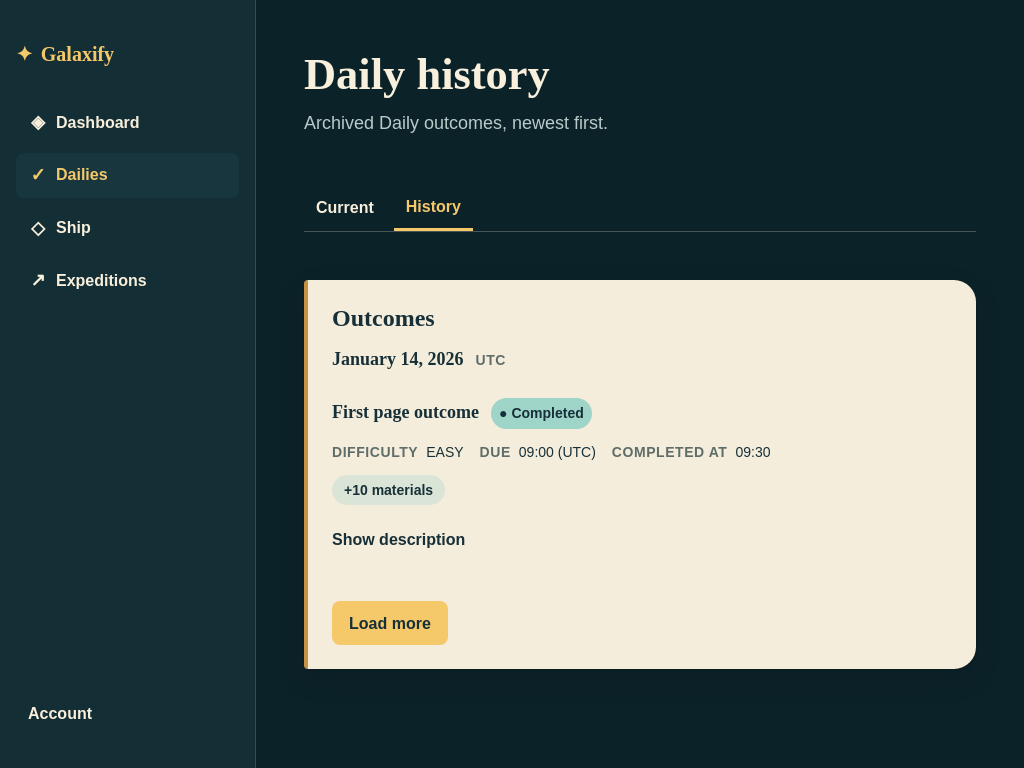
it: /dailies/history › pages with an opaque cursor and Load more
Expected: the heading "Daily history" is shown, [304,49,550,99]
Expected: the heading "First page outcome" is shown, [332,402,479,424]
Click the button "Load more".
click(390, 623)  # box [332,601,448,645]
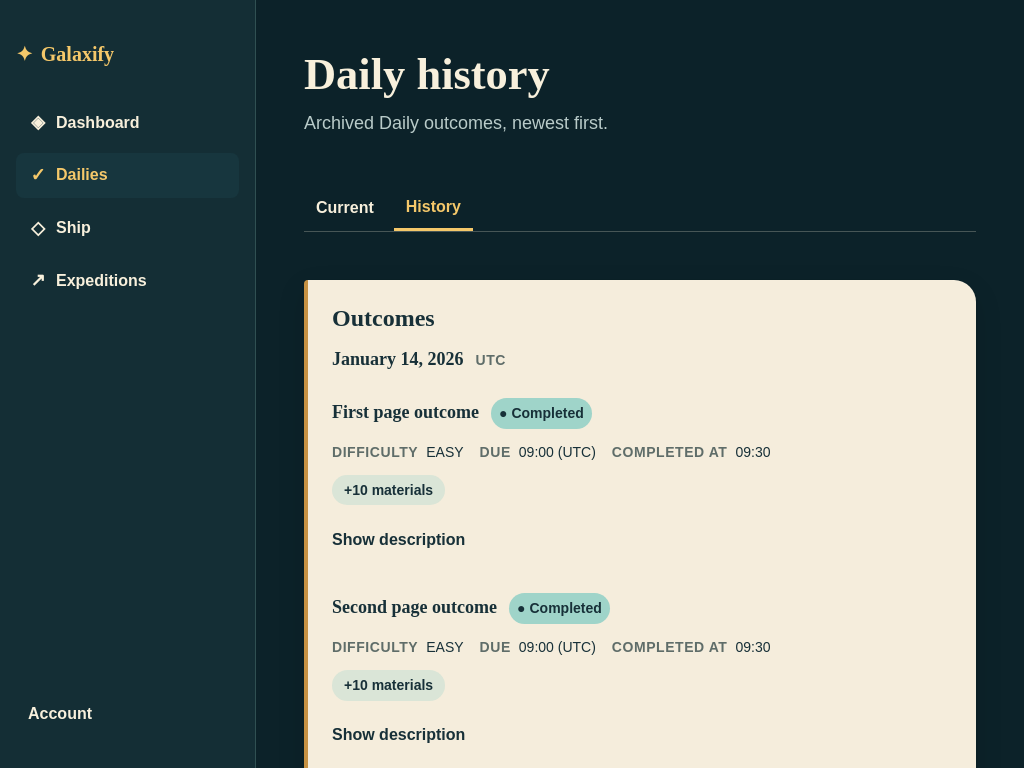
Result: the heading "Second page outcome" is shown at [332,597,497,619]
Result: the button "Load more" is gone
